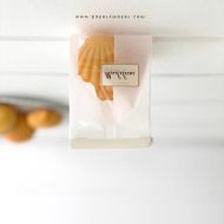snack: (58, 25, 160, 155)
